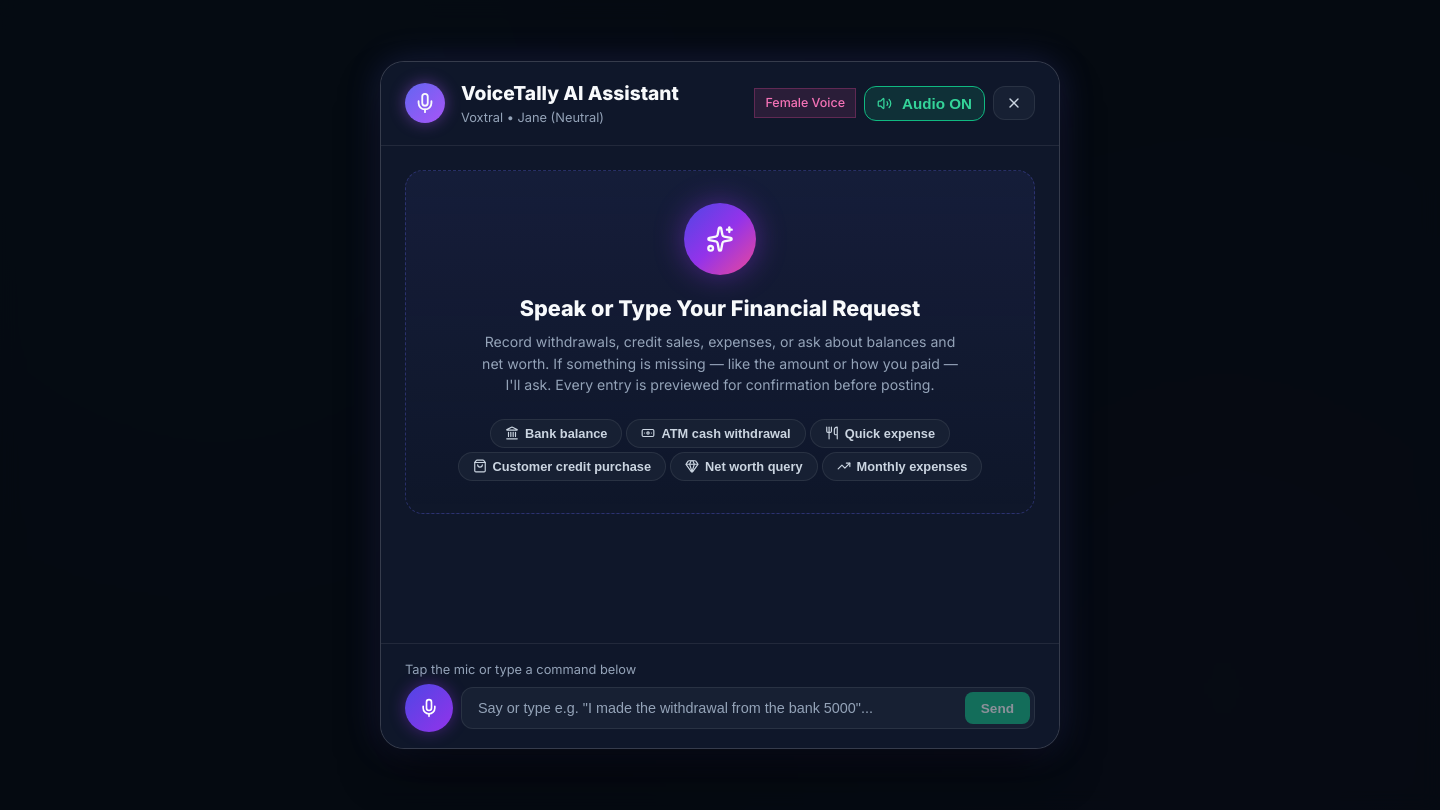
Scenario: UI: VoiceAgentModal & Studio Components › renders a follow-up question with answer options and does not open the confirmation popup
Replace the text in the field with placeholder "Say or type" with "Paid 500 for lunch" at (713, 708), box [466,692,961,724]
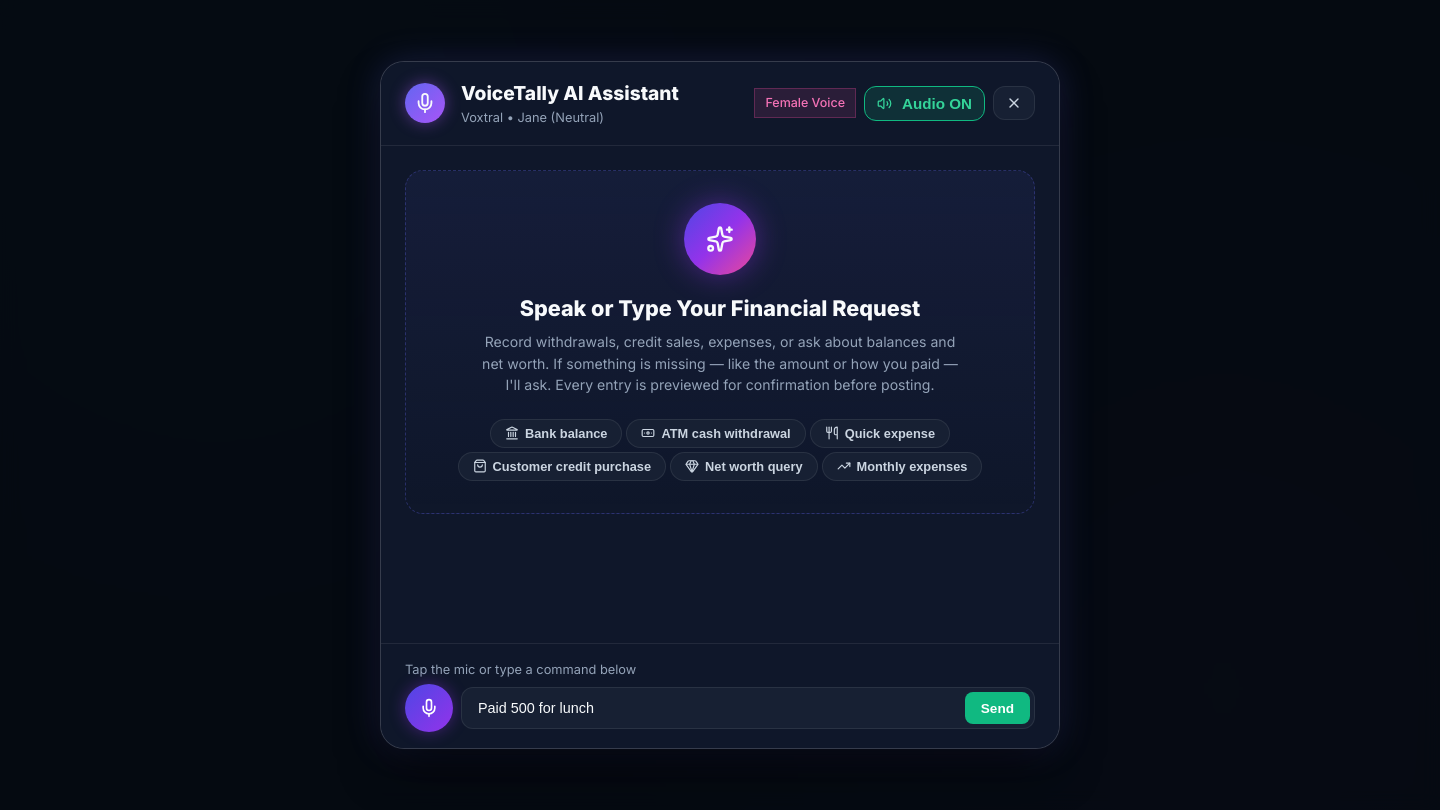
Click the button "Send" at (997, 708), box [965,692,1030,724]
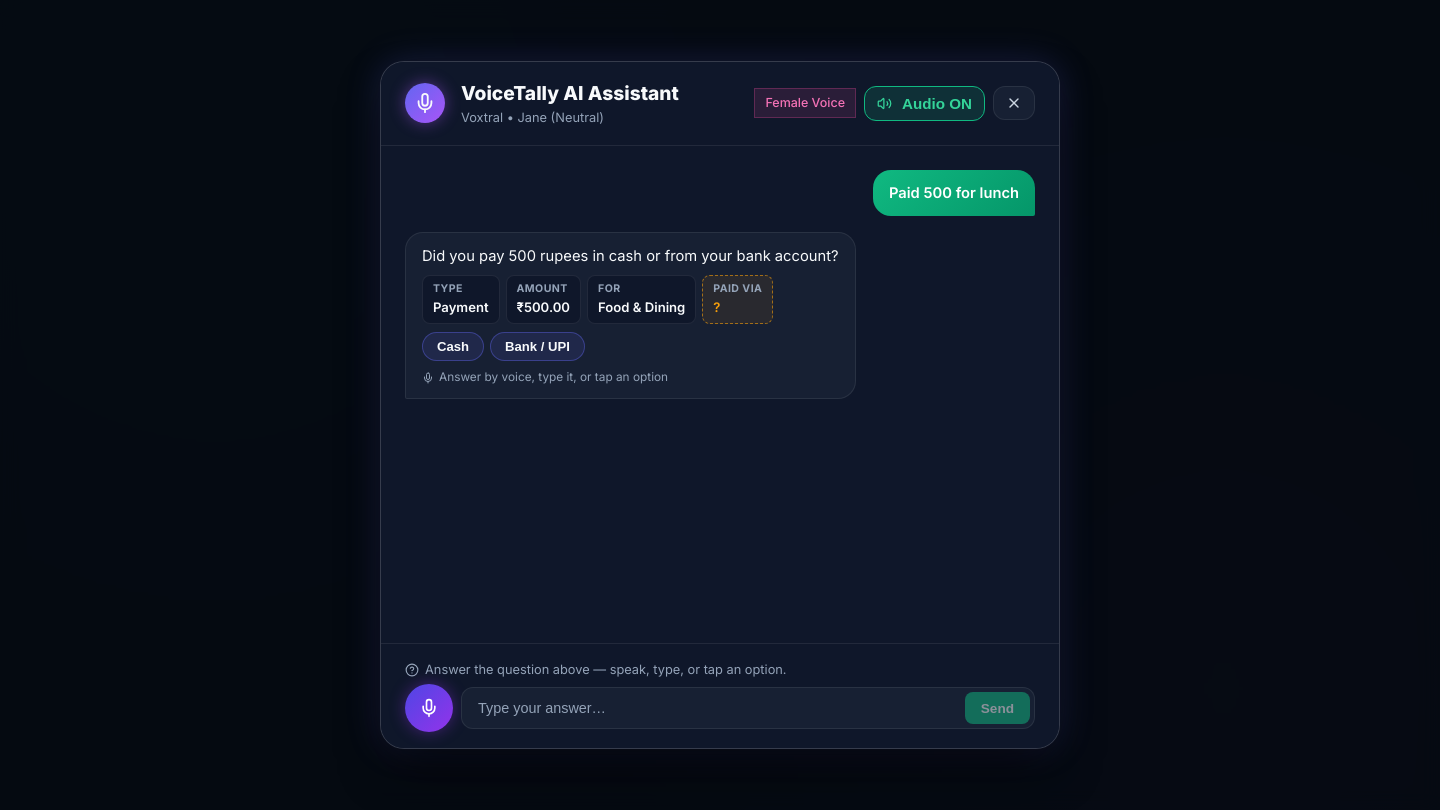
Now the text "Did you pay 500 rupees in cash or from your bank account?" is shown, box [422,245,838,267]
Now the button "Cash" is shown, box [422,332,484,361]
Now the button "Bank / UPI" is shown, box [490,332,585,361]
